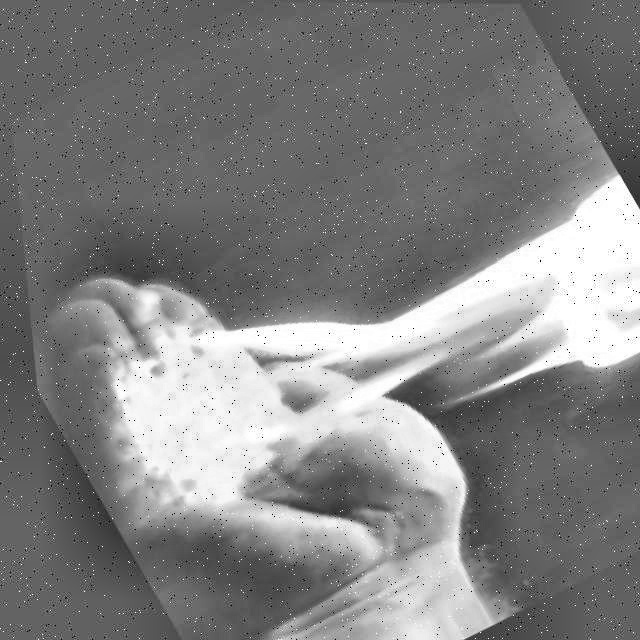Fire: (136, 140, 640, 548)
